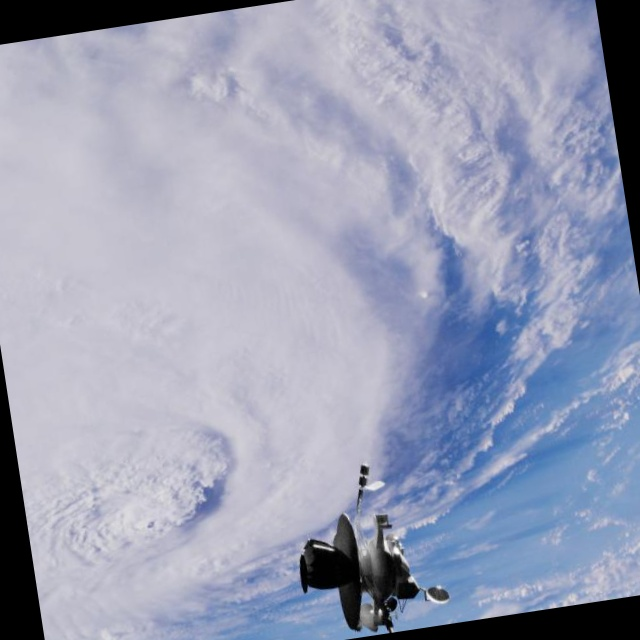satellite: (267, 431, 464, 640)
